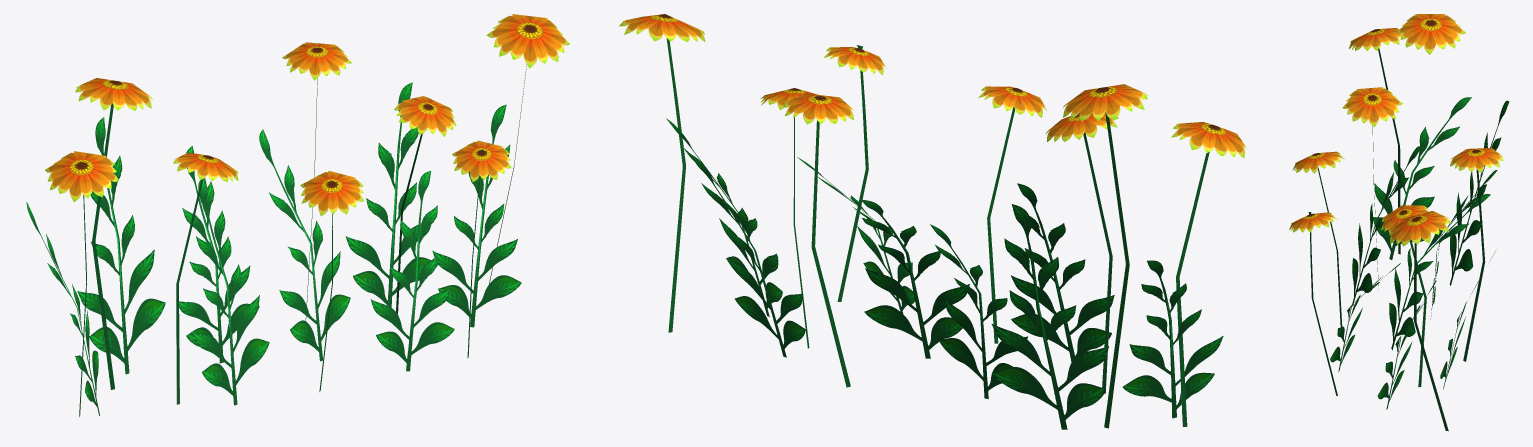
Rendered from Flower_04c.FBX.
3 views of the same model, side by side, from view 1: azimuth 30°, elevation 25°; view 2: azimuth 150°, elevation 25°; view 3: azimuth 270°, elevation 25° (orthographic). The views are drawn at different scales.
Parts seen in each view (by area): view 1: Flower_04c; view 2: Flower_04c; view 3: Flower_04c.
Boxes of the visible parts, bbox=[...] form: Flower_04c: bbox=[26, 14, 569, 416]; Flower_04c: bbox=[619, 14, 1246, 429]; Flower_04c: bbox=[1289, 14, 1509, 431].
Size of the model in its own units: 52.44 by 28.85 by 23.38.
Materials: 1 (1 with a texture image).
